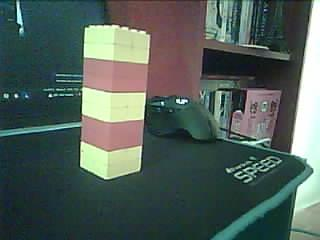lego: (80, 23, 151, 179)
